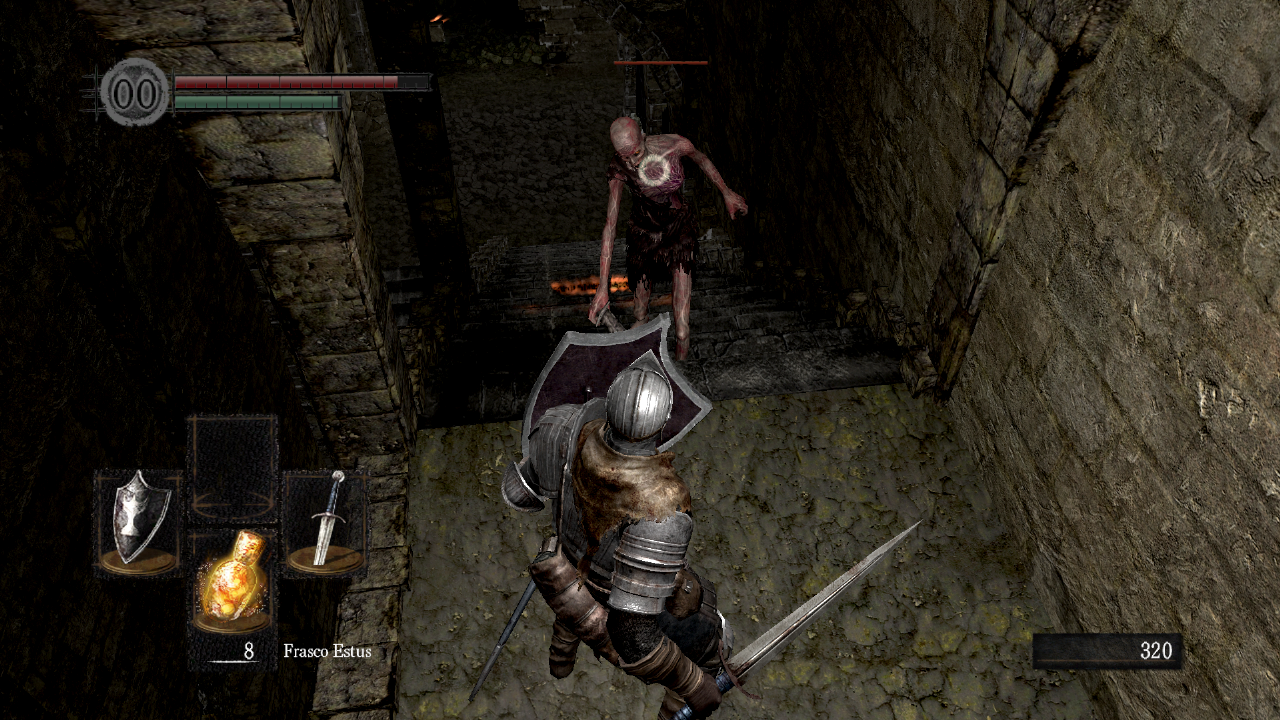hollow: (588, 116, 749, 362)
player: (469, 312, 924, 720)
